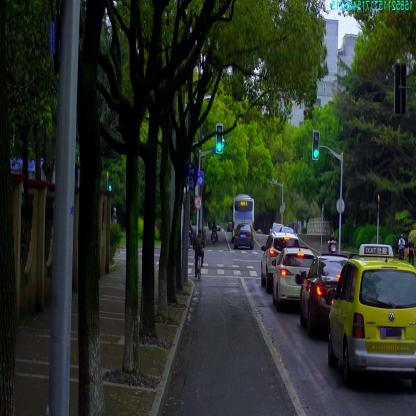traffic-light: (216, 124, 222, 152), (313, 132, 319, 159)
